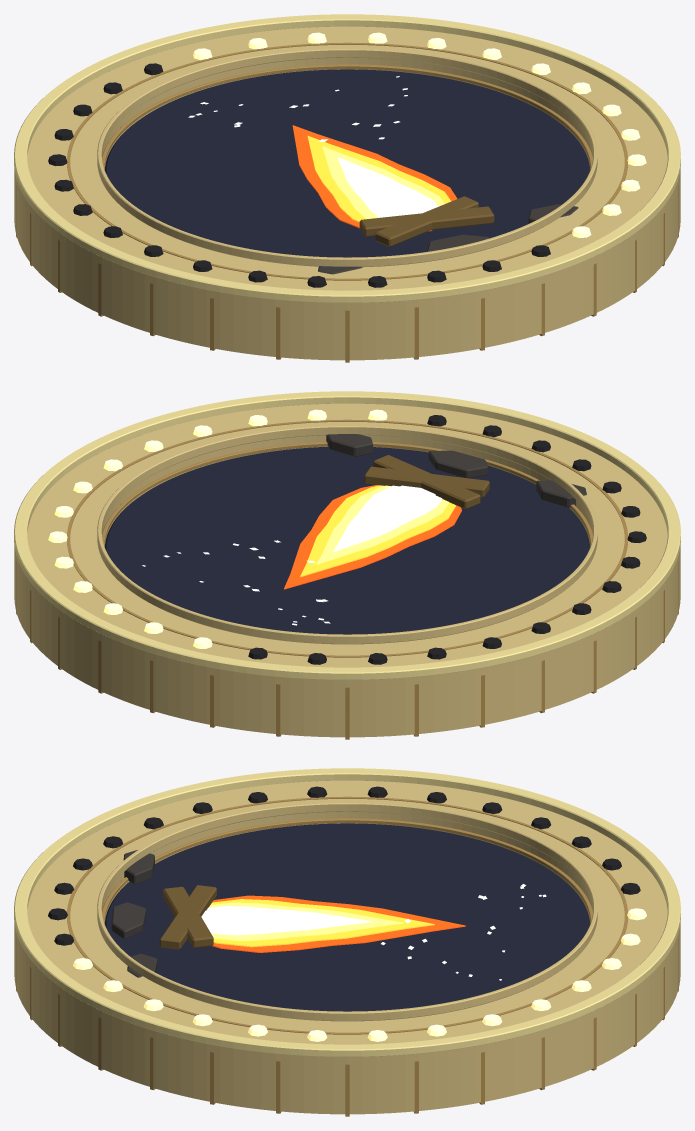
The model's file is streak_14.glb.
3 views of the same model, one above another, from view 1: azimuth 30°, elevation 25°; view 2: azimuth 150°, elevation 25°; view 3: azimuth 270°, elevation 25° (orthographic).
Visible parts, largest first — view 1: SR_Ring, SR_Field, SR_OuterLip, SR_InnerLip, SR_RingLine, SR_Logs, SR_PipsDark, SR_FieldRim, SR_PipsLit, SR_Ribs, SR_Flame0, SR_Flame1 (+4 smaller); view 2: SR_Ring, SR_Field, SR_OuterLip, SR_InnerLip, SR_RingLine, SR_PipsDark, SR_Logs, SR_Flame0, SR_PipsLit, SR_Ribs, SR_Flame1, SR_FieldRim (+6 smaller); view 3: SR_Ring, SR_Field, SR_OuterLip, SR_InnerLip, SR_RingLine, SR_PipsDark, SR_Flame0, SR_FieldRim, SR_PipsLit, SR_Logs, SR_Ribs, SR_Flame1 (+5 smaller).
Part boxes in pixels (x1,y1,x2,y2): SR_Ring: (14, 26, 680, 360); SR_Field: (104, 69, 590, 257); SR_OuterLip: (14, 14, 680, 302); SR_InnerLip: (97, 48, 597, 267); SR_RingLine: (67, 42, 627, 280); SR_Logs: (359, 196, 494, 246); SR_PipsDark: (48, 63, 550, 287); SR_FieldRim: (102, 64, 592, 169); SR_PipsLit: (193, 32, 646, 237); SR_Ribs: (16, 184, 678, 362); SR_Flame0: (292, 125, 457, 231); SR_Flame1: (307, 136, 451, 222); SR_Ring: (14, 403, 680, 737); SR_Field: (104, 446, 590, 634); SR_OuterLip: (14, 391, 680, 679); SR_InnerLip: (97, 425, 597, 644); SR_RingLine: (67, 419, 627, 657); SR_PipsDark: (248, 415, 646, 664); SR_Logs: (364, 455, 489, 509); SR_Flame0: (284, 485, 461, 589); SR_PipsLit: (48, 409, 387, 648); SR_Ribs: (16, 561, 678, 739); SR_Flame1: (300, 485, 455, 577); SR_FieldRim: (102, 441, 592, 546); SR_Ring: (14, 780, 680, 1114); SR_Field: (104, 823, 590, 1011); SR_OuterLip: (14, 768, 680, 1056); SR_InnerLip: (97, 802, 597, 1021); SR_RingLine: (67, 796, 627, 1034); SR_PipsDark: (48, 786, 640, 945); SR_Flame0: (212, 895, 465, 952); SR_FieldRim: (102, 818, 592, 923); SR_PipsLit: (73, 908, 646, 1041); SR_Logs: (159, 885, 216, 949); SR_Ribs: (16, 938, 678, 1116); SR_Flame1: (210, 899, 434, 947).
Bounding box in the file's own units: 0.0394 × 0.00447 × 0.0394.
